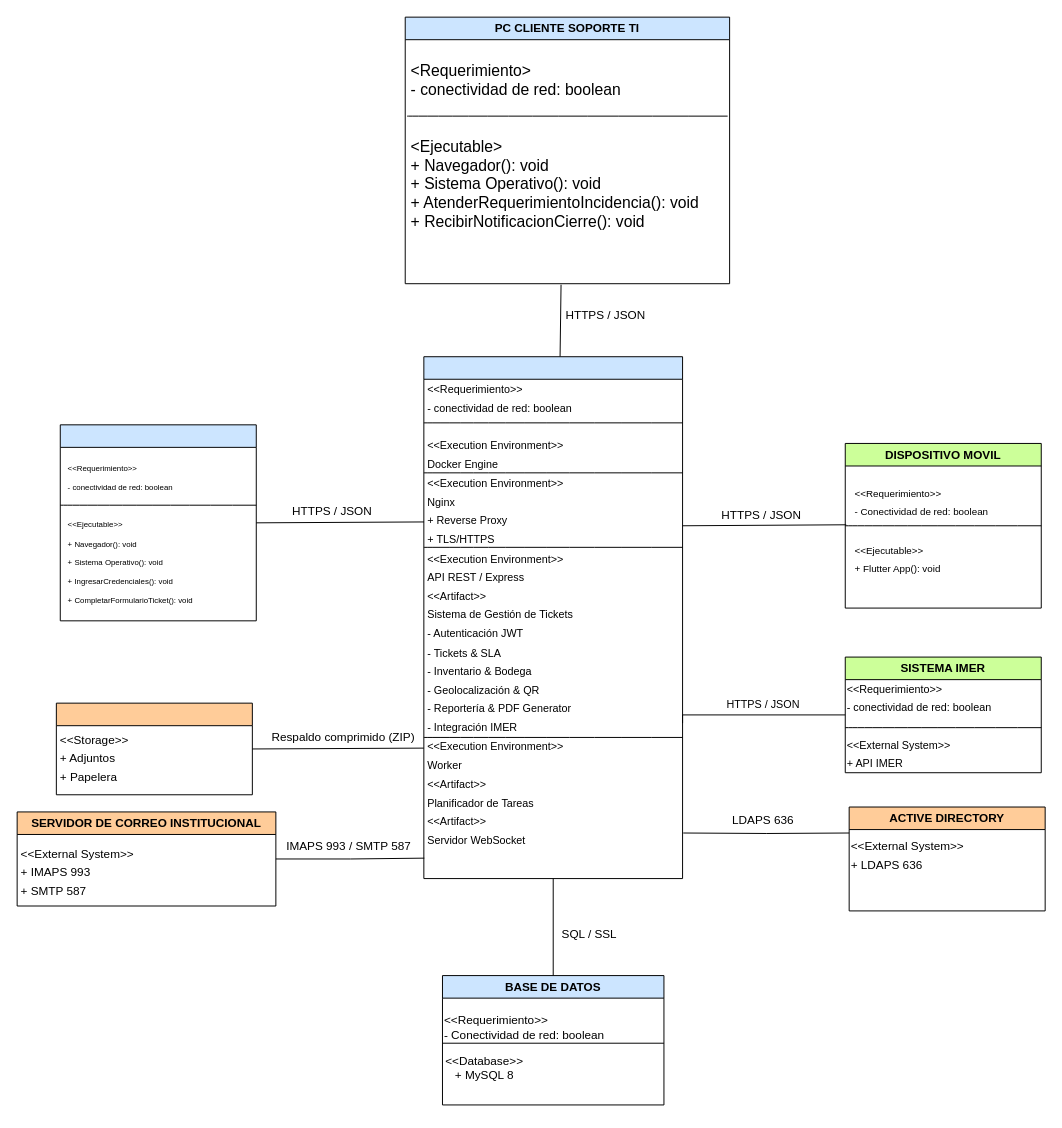
The diagram is 1062 pixels wide and 1128 high, and some of its shapes have lost their labels. The shapes that lost their labels are listed below. From the top down, each one's box as (x1, y1, x2, y2) in pixels, then its label:
(59, 424, 256, 621): PC USUARIO
(423, 356, 683, 879): SERVIDOR DE APLICACIONES
(55, 702, 252, 795): SERVIDOR DE ARCHIVOS NAS
